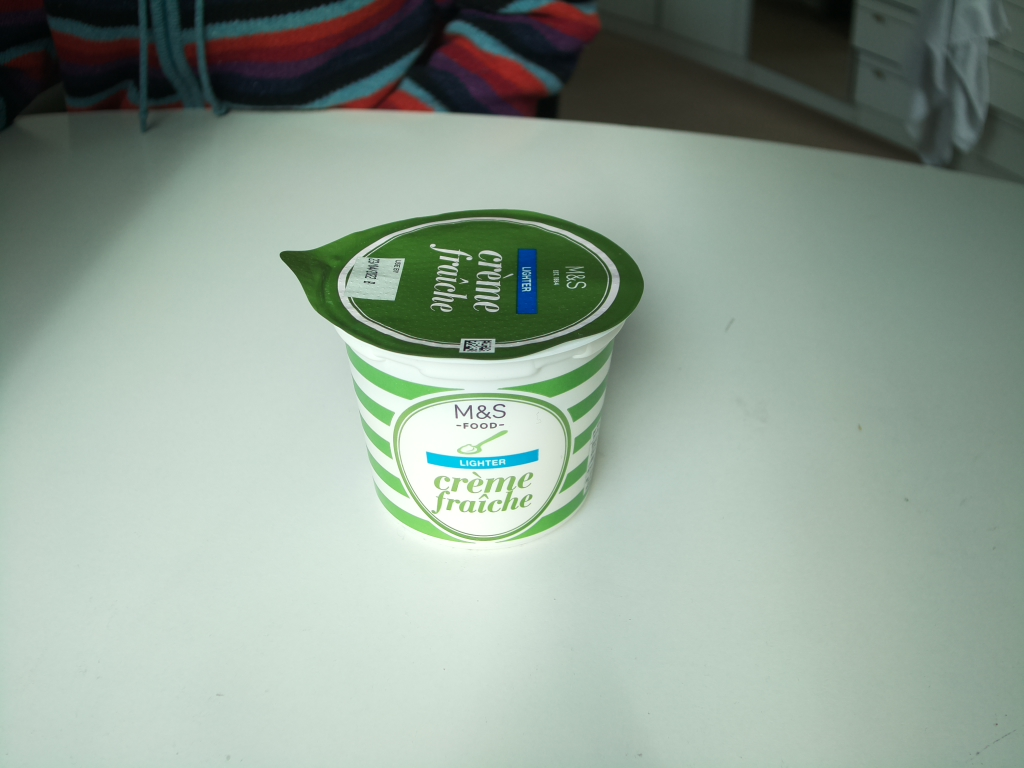cream: (275, 205, 656, 545)
